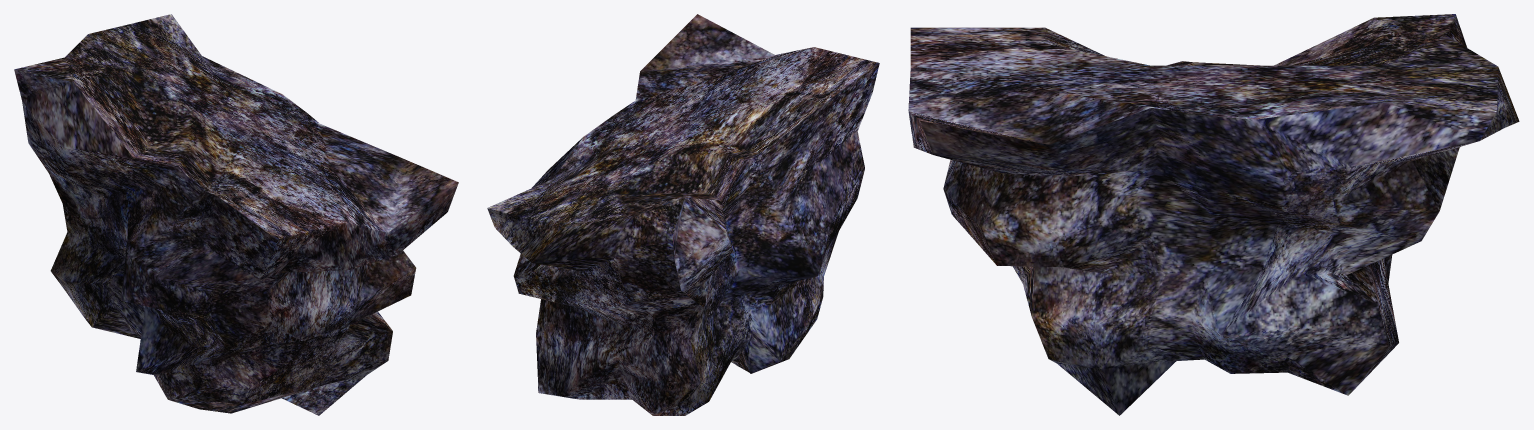
Rendered from Plataforma baja.fbx.
3 renders of one model, left to right at view 1: azimuth 30°, elevation 25°; view 2: azimuth 150°, elevation 25°; view 3: azimuth 270°, elevation 25°, orthographic. The views are drawn at different scales.
Parts seen in each view (by area): view 1: LowPlatform; view 2: LowPlatform; view 3: LowPlatform.
Part boxes in pixels (left/top/right/bottom): LowPlatform: left=14, top=14, right=458, bottom=415; LowPlatform: left=487, top=14, right=879, bottom=415; LowPlatform: left=908, top=14, right=1519, bottom=415.
Size of the model in its own units: 1025 by 1187 by 2029.
